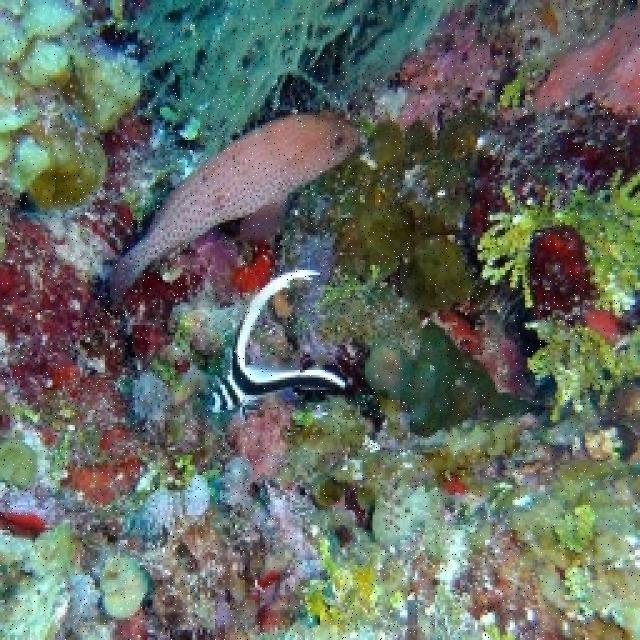aquatic plants: (121, 0, 465, 157), (477, 165, 638, 321), (526, 317, 637, 418)
fish: (92, 113, 365, 310), (208, 266, 348, 413)
